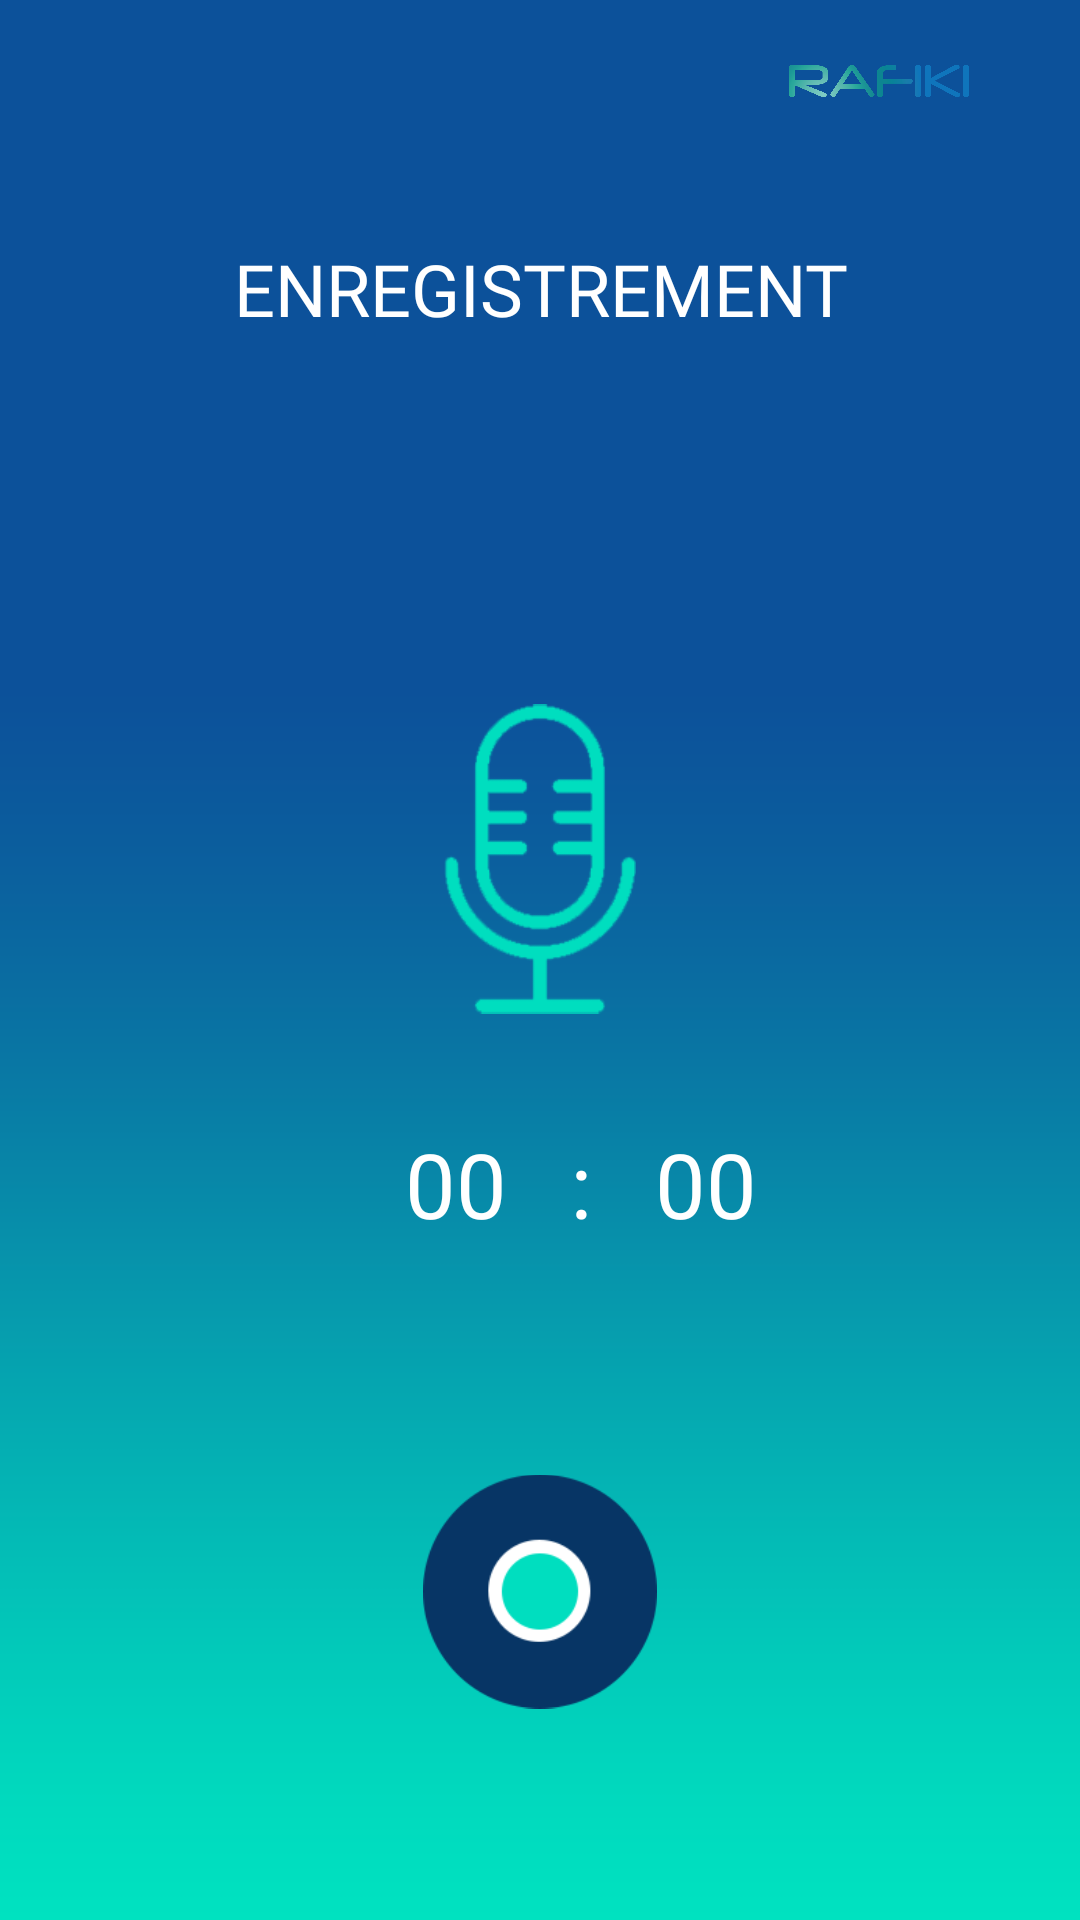

Icon click points for this 1080×1920 phone screenshot, format point (x, y):
circlevocal: point (540, 1591)
micro: point (540, 870)
